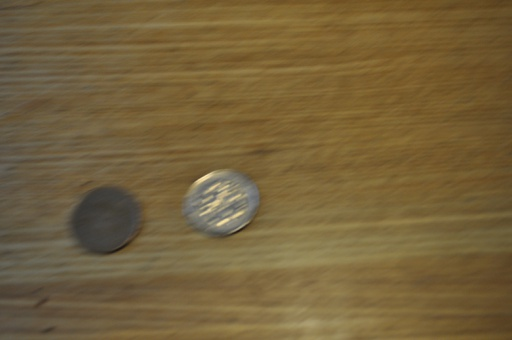100yen: (184, 170, 261, 238)
10yen: (69, 184, 142, 255)
